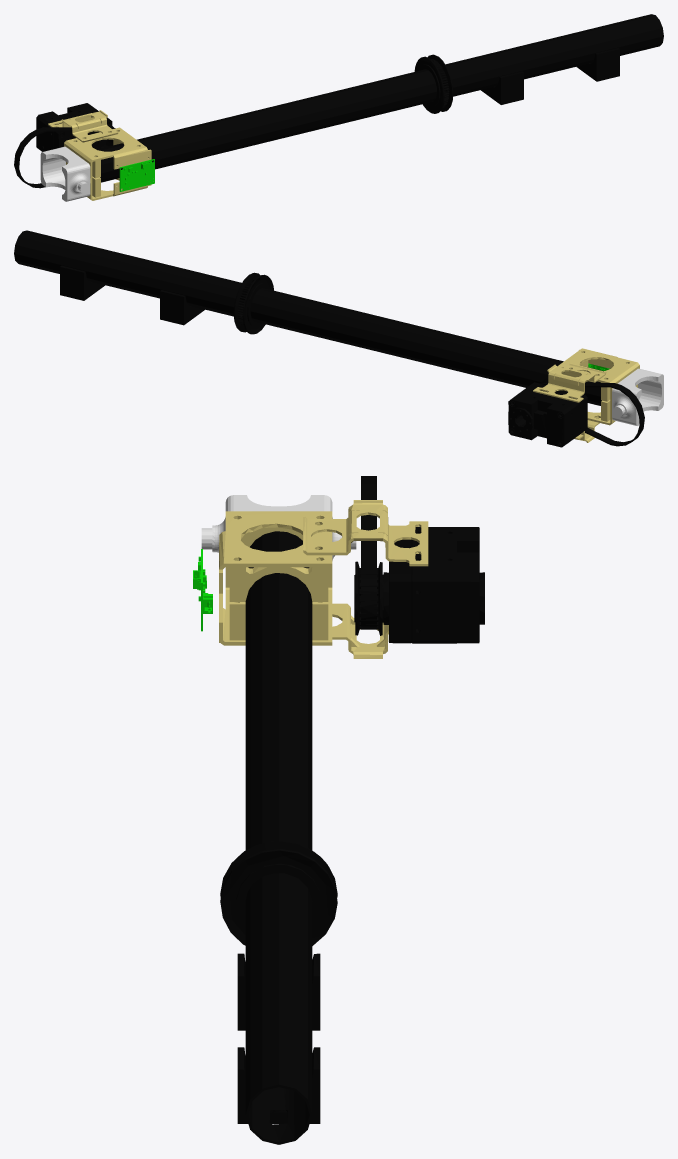
Rendered from end_link.dae.
3 views of the same model, one above another, from view 1: azimuth 30°, elevation 25°; view 2: azimuth 150°, elevation 25°; view 3: azimuth 270°, elevation 25° (orthographic). The views are drawn at different scales.
Visible parts, largest first — view 1: end_link_black, end_link_gold, end_link_grey, general_link_green; view 2: end_link_black, end_link_gold, end_link_grey; view 3: end_link_black, end_link_gold, end_link_grey.
Part boxes in pixels (bbox=[...]): end_link_black: bbox=[14, 14, 663, 188]; end_link_gold: bbox=[48, 110, 151, 200]; end_link_grey: bbox=[40, 146, 90, 201]; general_link_green: bbox=[119, 159, 154, 191]; end_link_black: bbox=[14, 230, 644, 447]; end_link_gold: bbox=[533, 348, 639, 442]; end_link_grey: bbox=[612, 368, 663, 425]; end_link_black: bbox=[220, 476, 484, 1144]; end_link_gold: bbox=[219, 500, 428, 658]; end_link_grey: bbox=[201, 495, 356, 560].
Size of the model in its own units: 0.535 by 0.1096 by 0.05.
